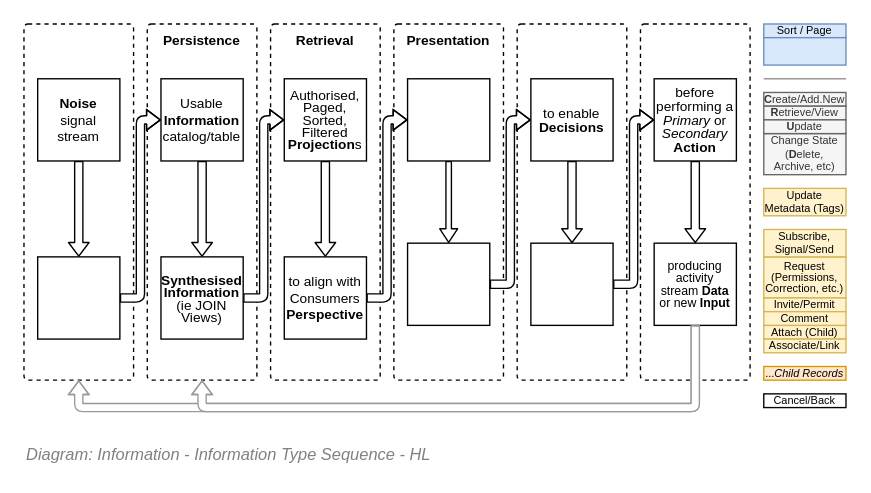
The diagram is 871 pixels wide and 493 high, and some of its shapes have lost their labels. The box of each missing label's shape, as (x1, y1, x2, y2) in pixels:
and maybe collect more info as Input: (530, 242, 613, 325)
Change: (639, 23, 750, 380)
Collection: (23, 23, 134, 380)
Purpose: (516, 23, 627, 380)
Recorded, Workable Correct or Incorrect Data (logs): (36, 256, 120, 339)
Summarised for Consumption as Actual Proofs , and /or Trends: (406, 77, 490, 161)
Un/Select (Single/Multiple): (762, 36, 846, 65)
via a formatted, templated & styled Presentation: (406, 242, 490, 325)
